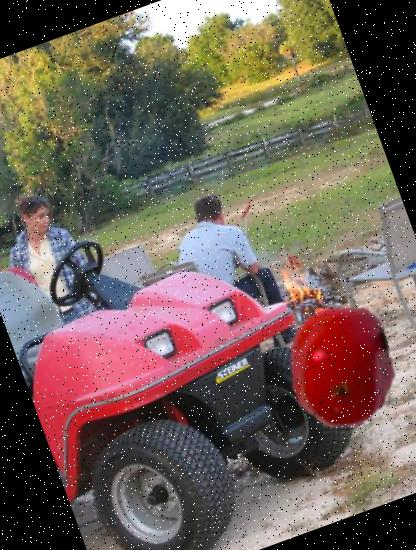Tomato: (262, 289, 416, 445)
